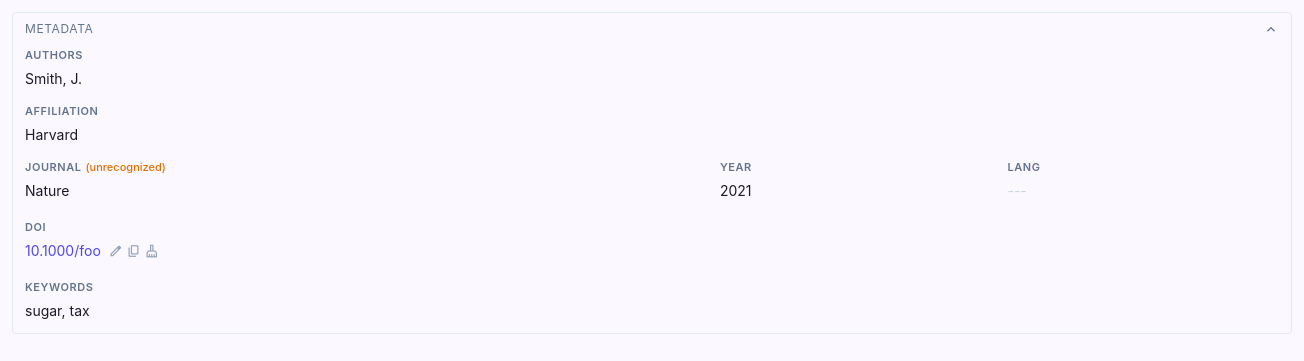
Test: article-metadata.vue › shows an edit input on double-click of the Journal value
Double-click the text with class "cursor-text" showing "Nature" at x=47, y=190, box [25,182,70,199]
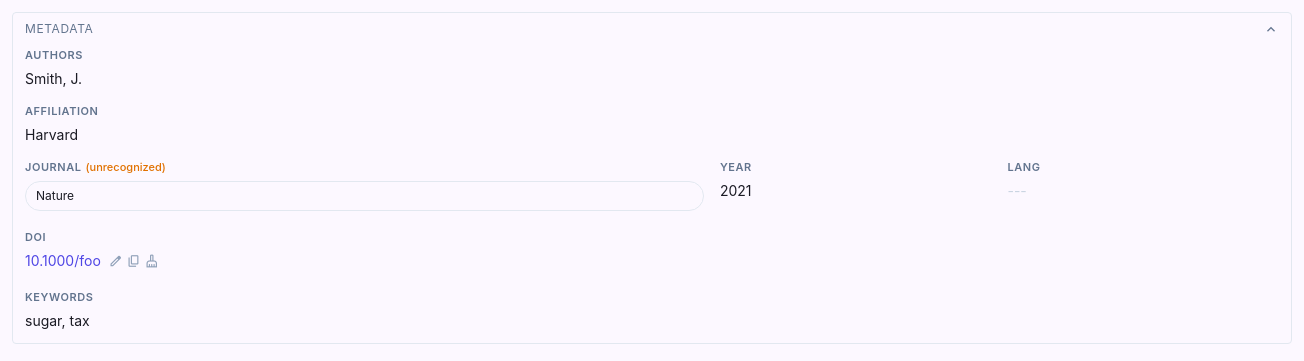
Now the field holds "Nature", box [25,181,704,211]
